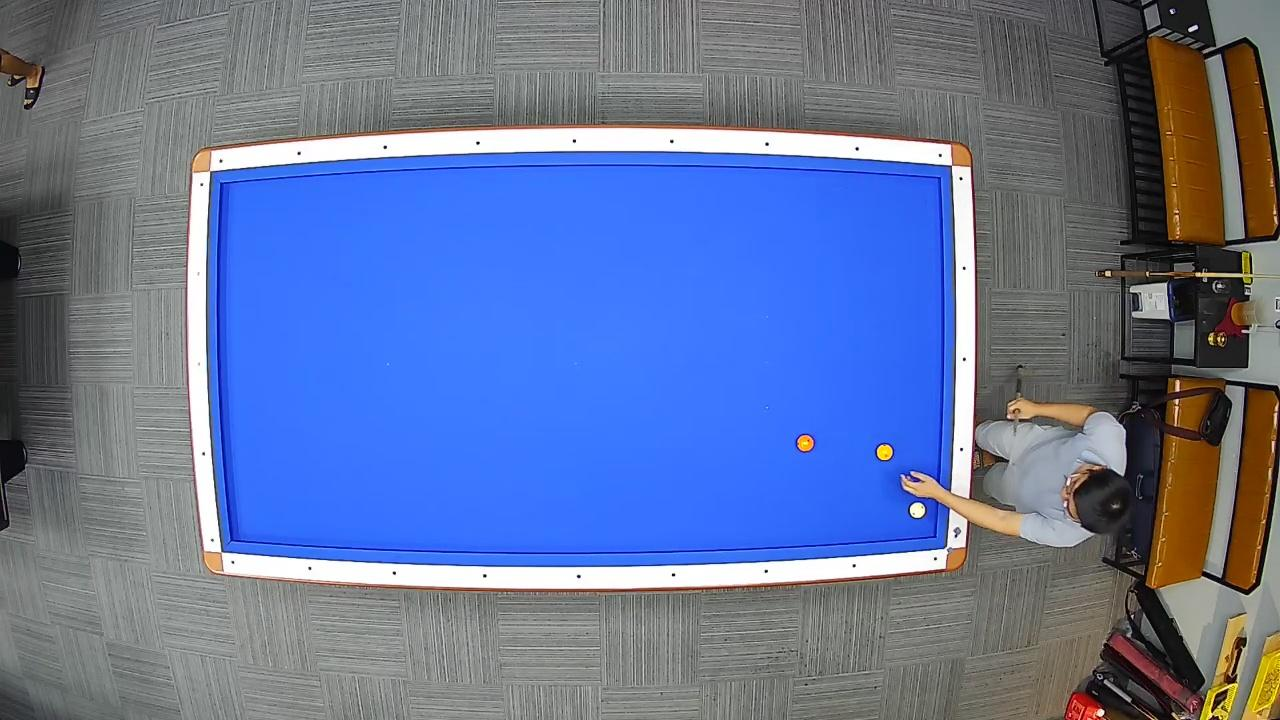Orange: (795, 432, 816, 454)
White: (907, 500, 927, 522)
Yellow: (875, 441, 895, 464)
